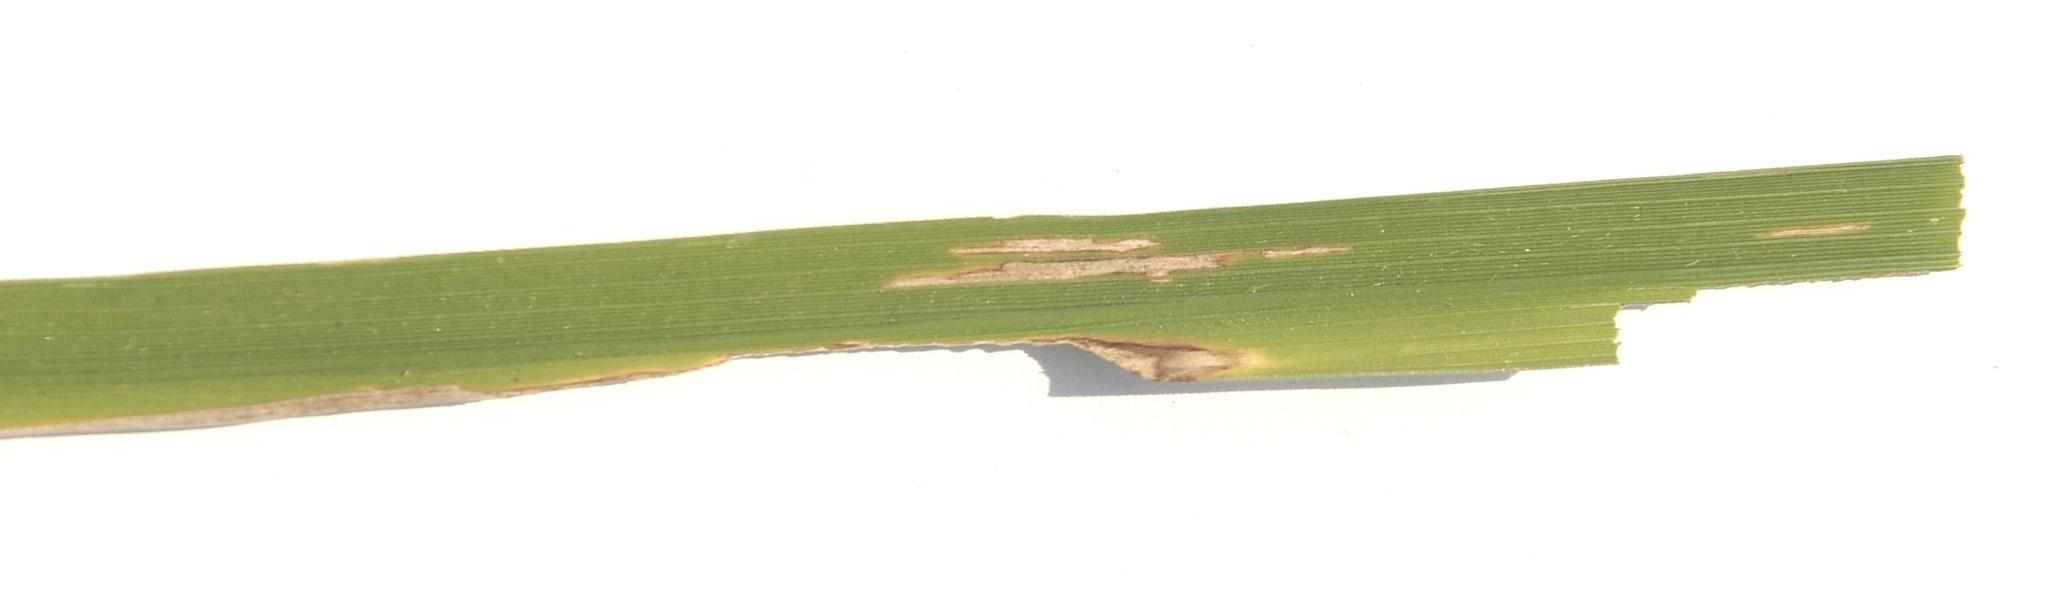2 BacterialBlight: (822, 179, 1435, 293), (1704, 183, 1933, 255)
